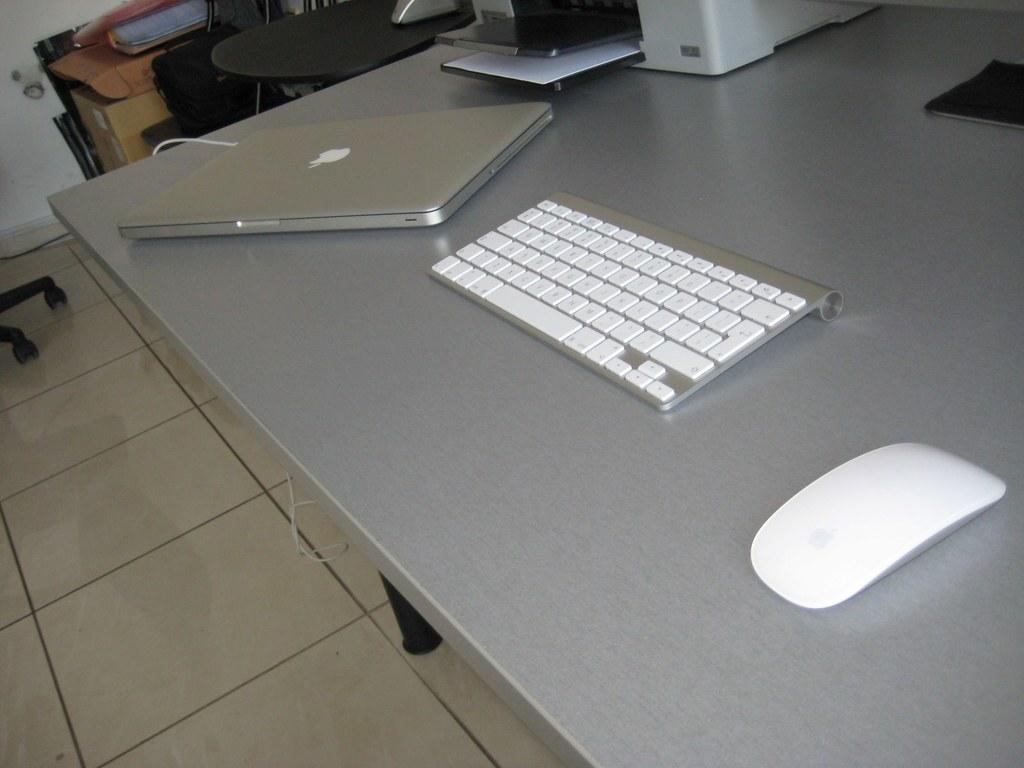Computer-keyboard: (424, 188, 845, 410)
Computer-mouse: (751, 437, 1004, 608)
